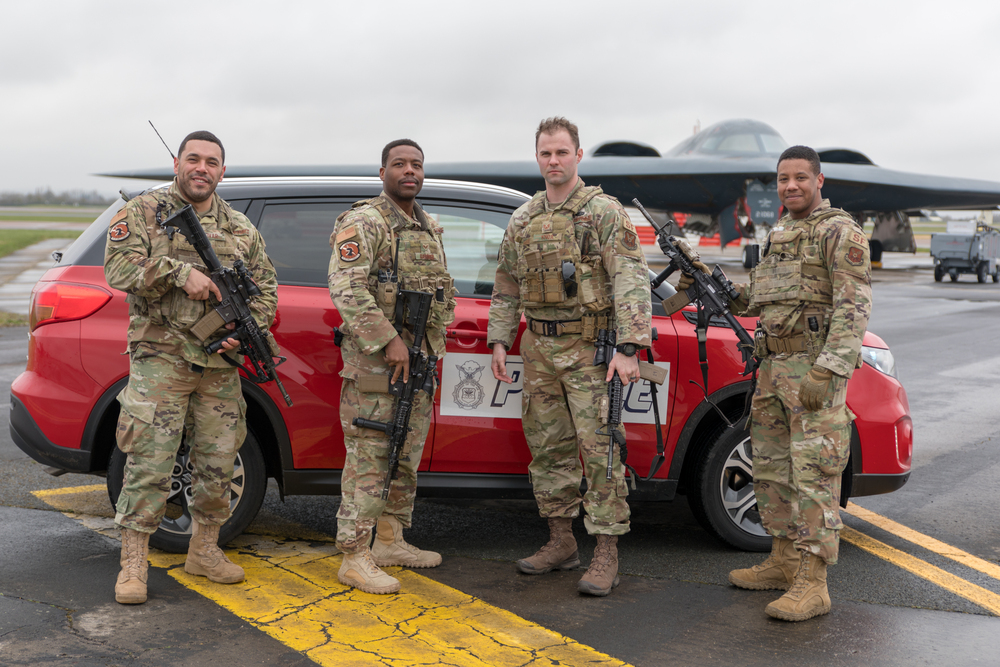B2: (85, 116, 1000, 267)
